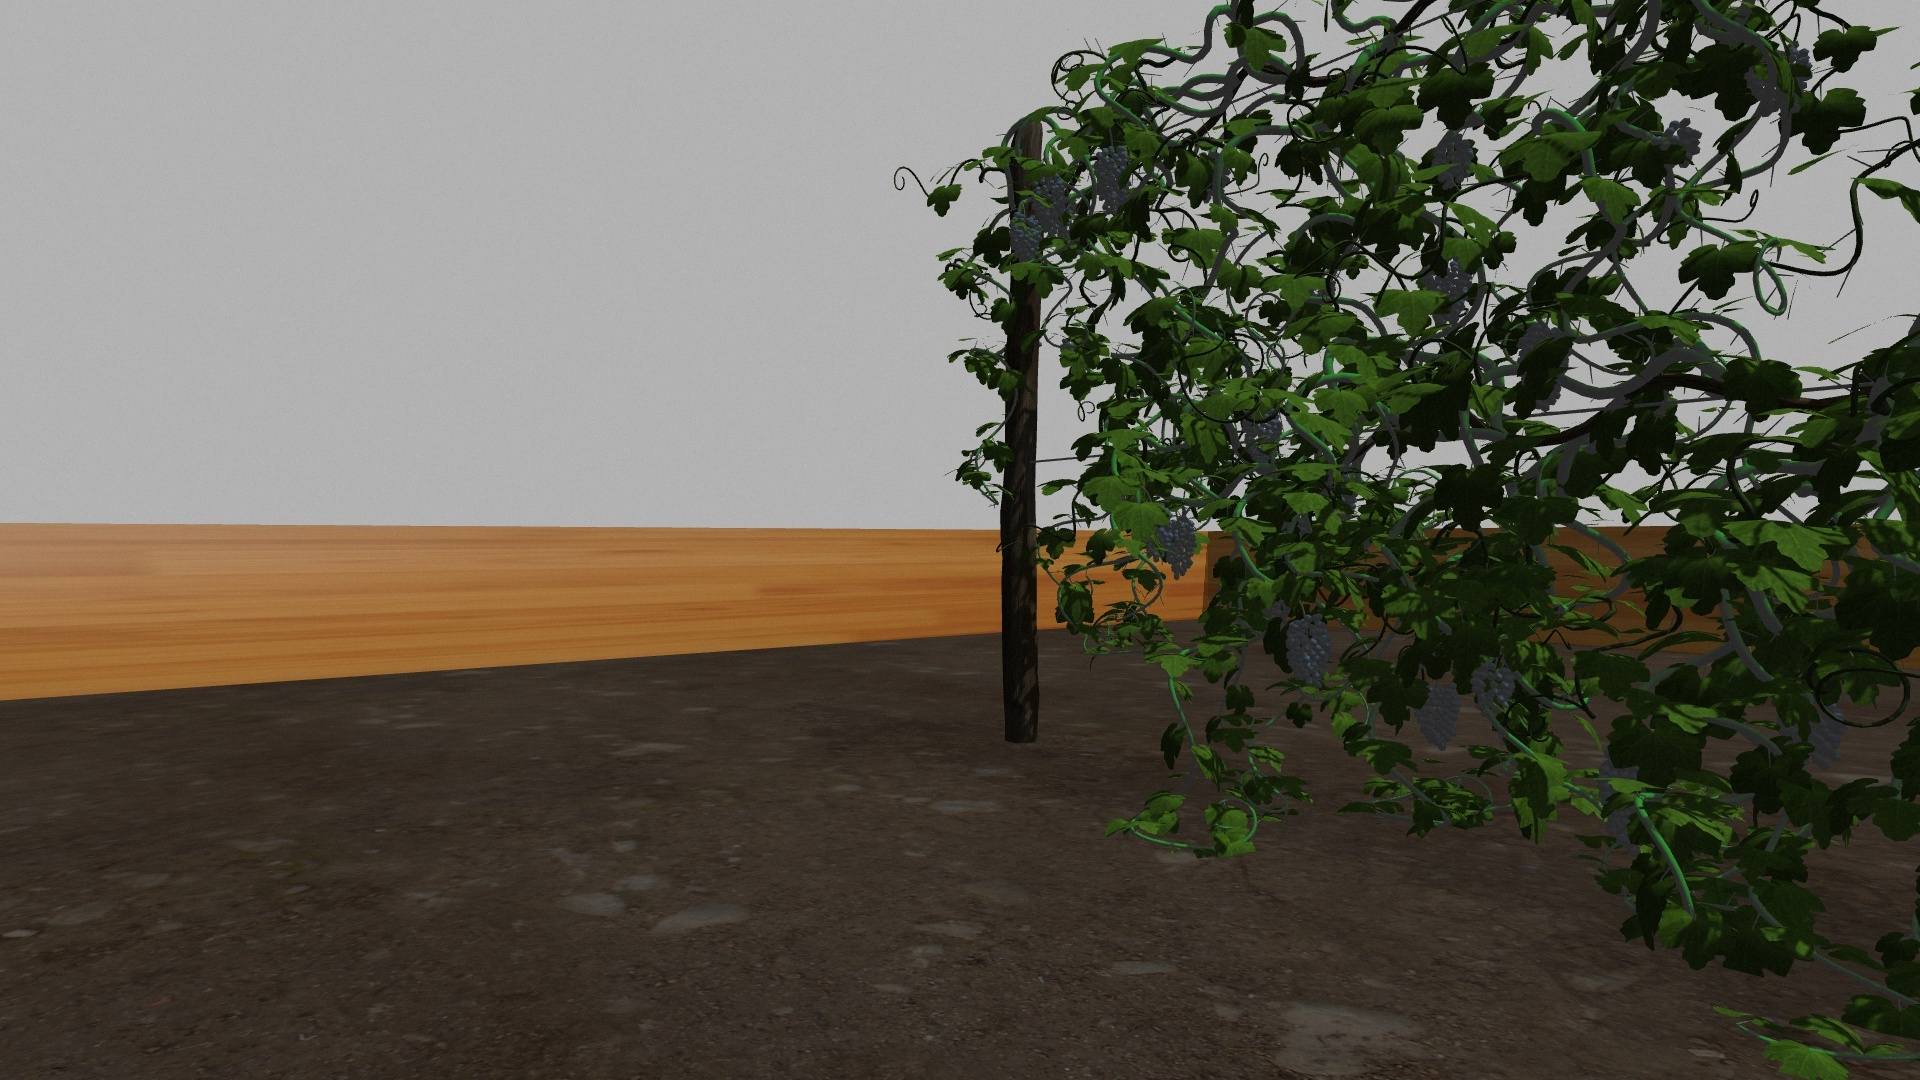grape: (1778, 691, 1847, 769), (1745, 46, 1812, 113), (1416, 262, 1472, 328), (1414, 678, 1462, 752), (1284, 613, 1331, 688), (1650, 116, 1704, 162), (1472, 661, 1515, 716), (1095, 145, 1129, 215), (1029, 173, 1065, 237), (1433, 131, 1474, 189), (1242, 407, 1280, 465), (1166, 516, 1197, 582), (1009, 212, 1043, 262)
